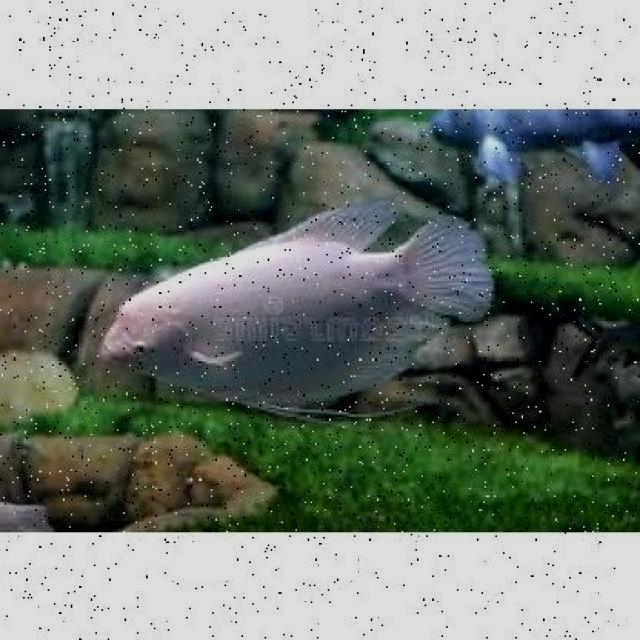gurame: (98, 208, 487, 420)
